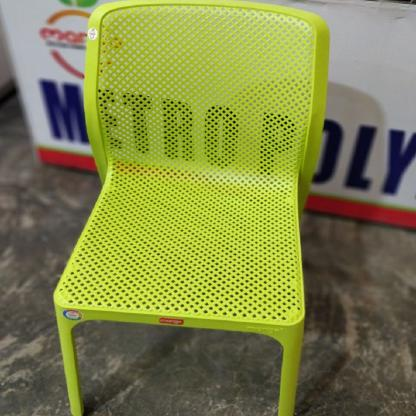chair: (46, 0, 334, 416)
